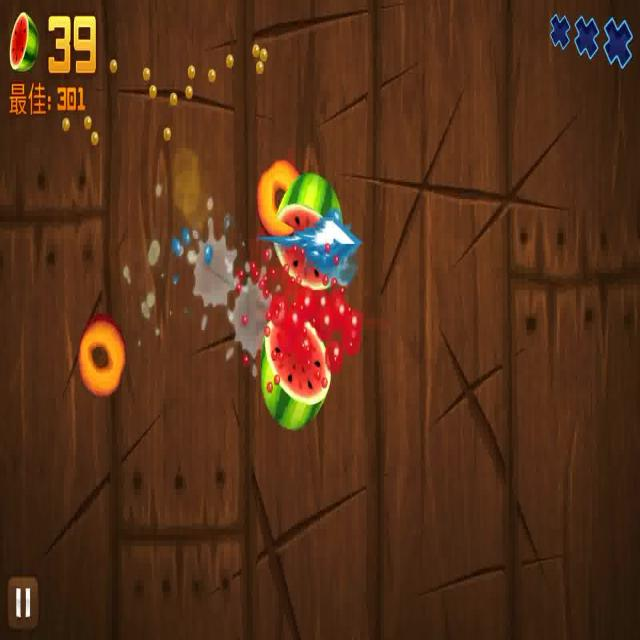fruit: (258, 311, 328, 433), (276, 178, 348, 294), (77, 318, 127, 390), (256, 160, 300, 237)
